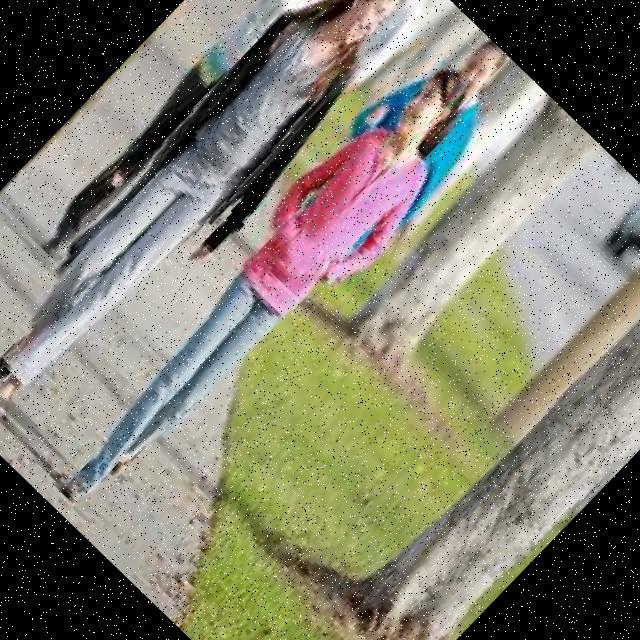Person: (33, 48, 506, 532), (0, 0, 448, 447), (22, 0, 395, 281), (314, 13, 538, 239)
